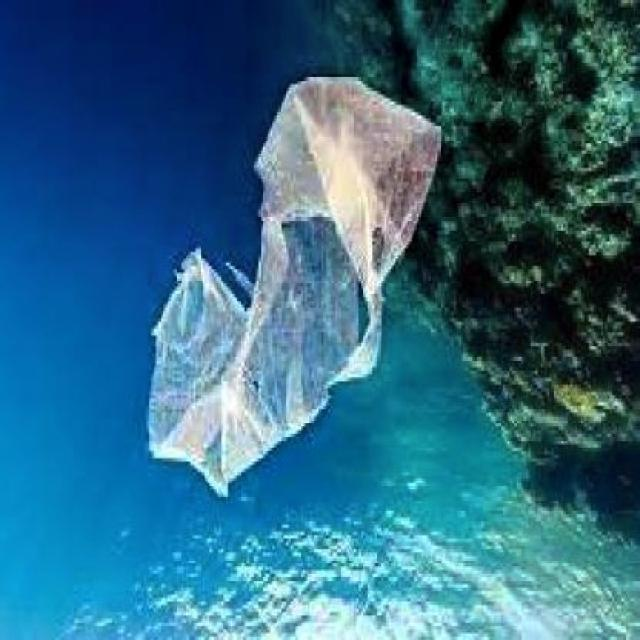pbag: (144, 73, 442, 504)
